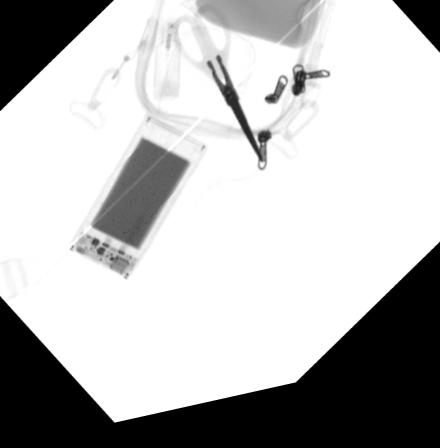Powerbank: (64, 118, 206, 287)
Scissors: (167, 8, 269, 179)
